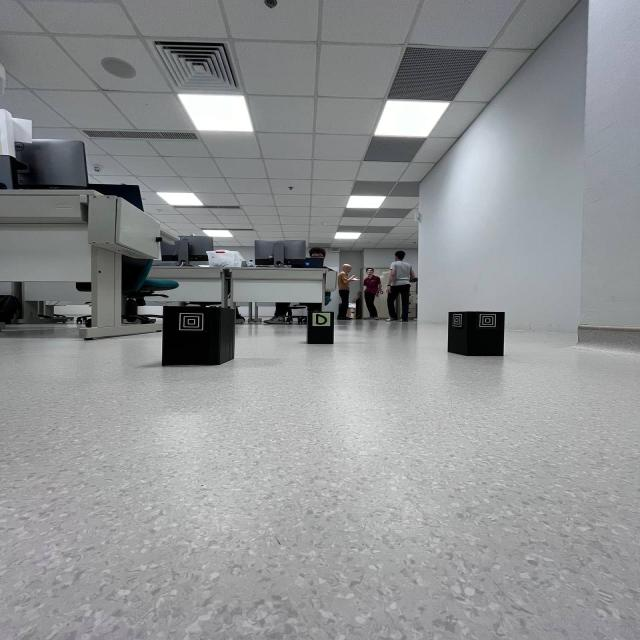D_id23: (312, 312, 331, 326)
bullseye-id10: (175, 311, 208, 334), (476, 312, 499, 329), (451, 312, 464, 328)
